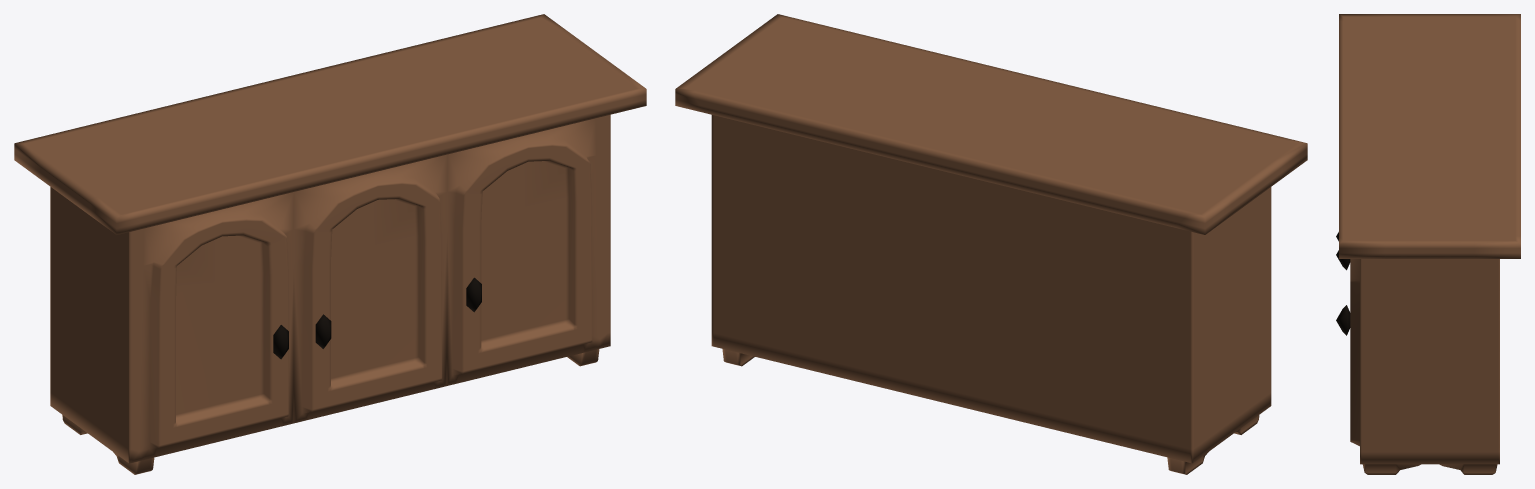
File: 078_bedside_table.glb
3 renders of one model, left to right at view 1: azimuth 30°, elevation 25°; view 2: azimuth 150°, elevation 25°; view 3: azimuth 270°, elevation 25°, orthographic. The views are drawn at different scales.
Parts seen in each view (by area): view 1: table, knob; view 2: table; view 3: table, knob.
Boxes of the visible parts, bbox=[...] form: table: bbox=[14, 14, 646, 474]; knob: bbox=[273, 277, 481, 359]; table: bbox=[675, 14, 1307, 474]; table: bbox=[1339, 14, 1520, 474]; knob: bbox=[1336, 232, 1350, 335].
Bounding box in the file's own units: 2.25 × 1.12 × 0.7656.
